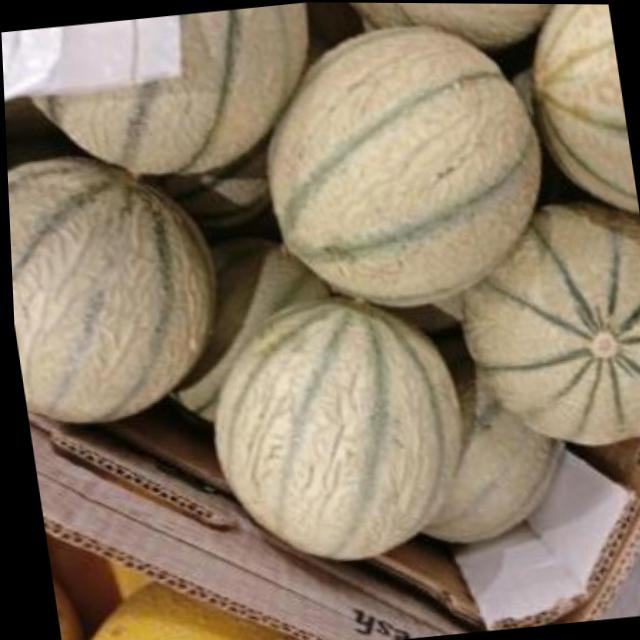Cantaloupe: (216, 1, 563, 317), (175, 263, 495, 590), (5, 140, 222, 438)
